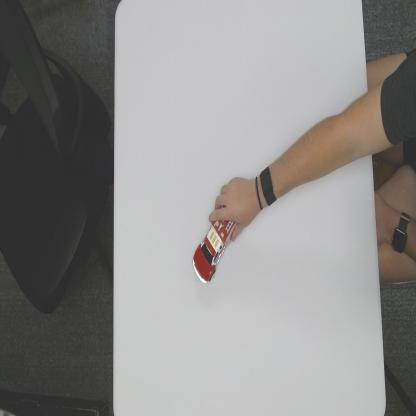Firetruck: (192, 210, 236, 287)
Hand: (209, 172, 258, 245)
